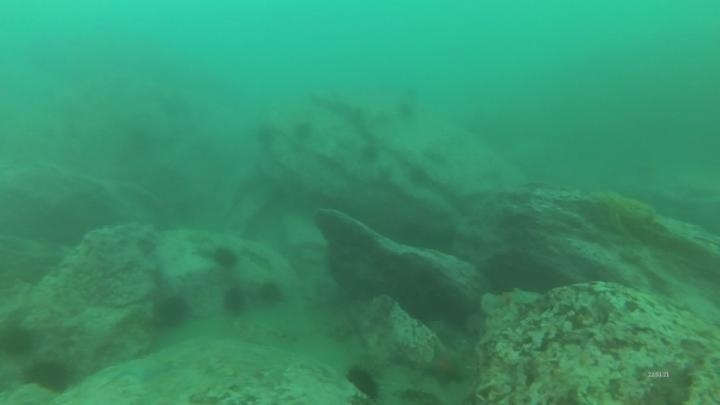echinus: (23, 356, 77, 395), (344, 363, 384, 402), (151, 293, 192, 330), (0, 320, 37, 359), (219, 285, 250, 318), (255, 278, 287, 309), (209, 244, 242, 273), (253, 121, 279, 151), (357, 141, 383, 167), (290, 119, 316, 144), (394, 98, 419, 123)
starfish: (421, 344, 469, 389), (112, 354, 171, 384)
